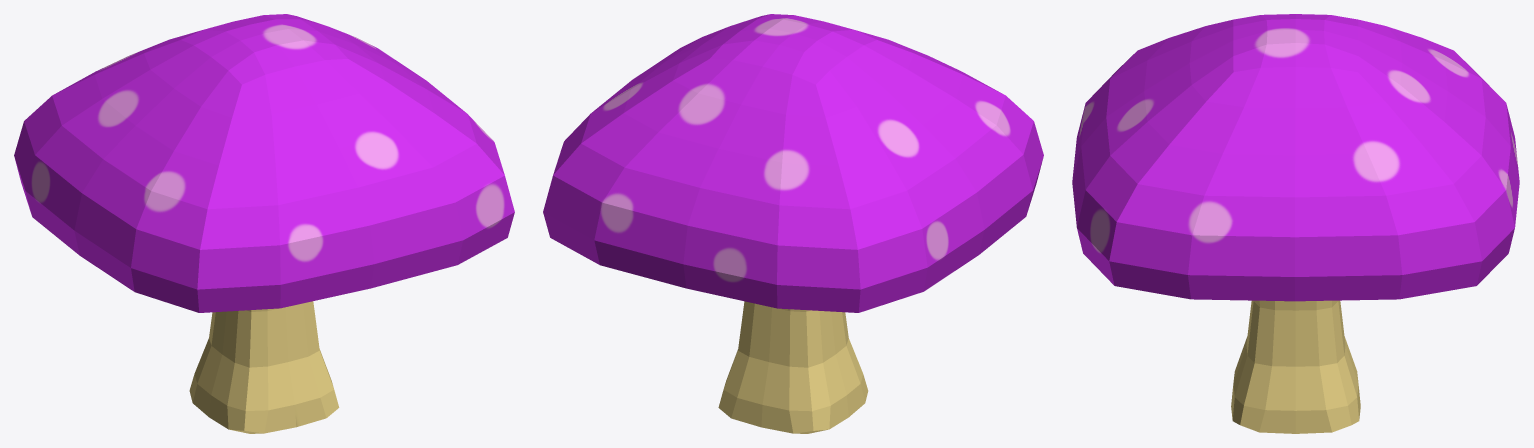
File: Grzyb_Fiolet.fbx
The picture shows the model from 3 angles, left to right: view 1: azimuth 30°, elevation 25°; view 2: azimuth 150°, elevation 25°; view 3: azimuth 270°, elevation 25°; orthographic projection.
Visible parts, largest first — view 1: Cube; view 2: Cube; view 3: Cube.
Boxes of the visible parts, x1,y1,x2,y2 form: Cube: [14, 14, 514, 433]; Cube: [543, 14, 1043, 433]; Cube: [1072, 14, 1519, 433].
Size of the model in its own units: 8.2 by 7.82 by 8.2.
Materials: 1 (1 with a texture image).
